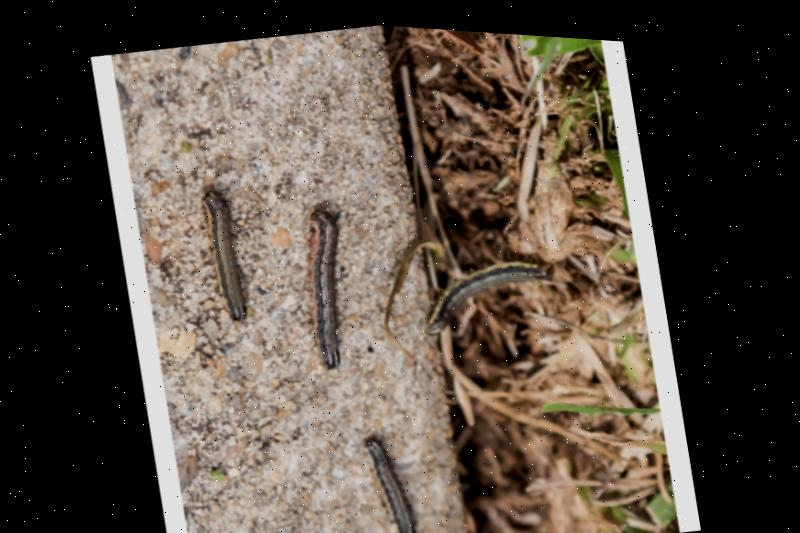fall-armyworm: (430, 252, 555, 326), (205, 186, 248, 315), (367, 429, 418, 533), (314, 206, 342, 364)
